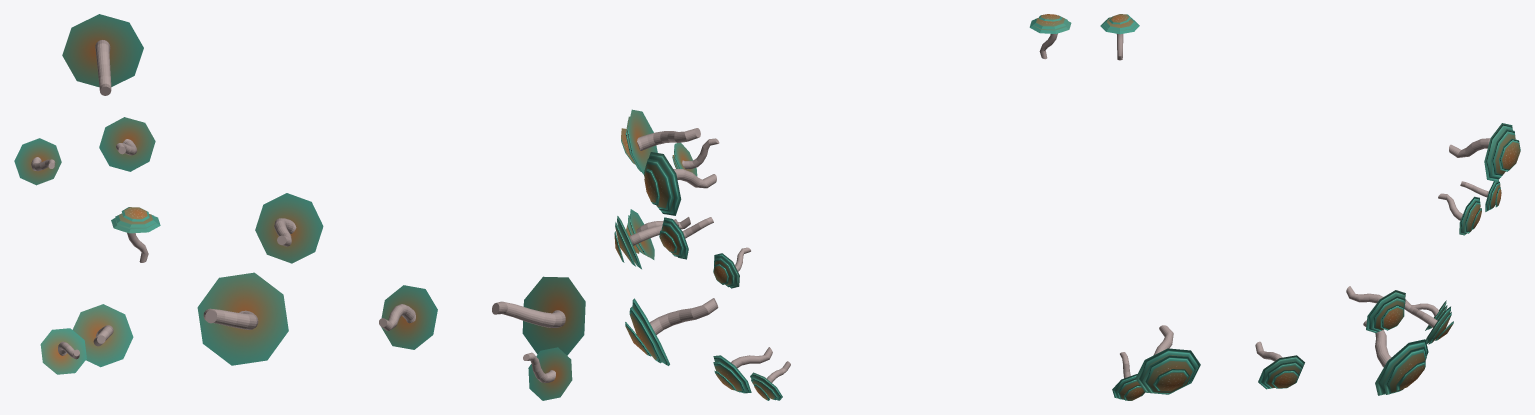
Rendered from mushroom.fbx.
3 views of the same model, side by side, from view 1: azimuth 30°, elevation 25°; view 2: azimuth 150°, elevation 25°; view 3: azimuth 270°, elevation 25° (orthographic). The views are drawn at different scales.
Visible parts, largest first — view 1: MASH17_mushroom_ReproMesh; view 2: MASH17_mushroom_ReproMesh; view 3: MASH17_mushroom_ReproMesh.
Boxes of the visible parts, x1,y1,x2,y2 form: MASH17_mushroom_ReproMesh: [14, 14, 585, 400]; MASH17_mushroom_ReproMesh: [614, 109, 790, 400]; MASH17_mushroom_ReproMesh: [1112, 123, 1520, 400].
Size of the model in its own units: 41.48 by 28.09 by 39.33.
2 materials, 1 textured.
